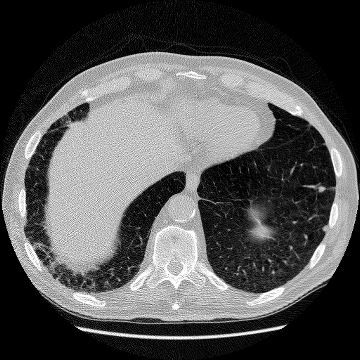nodule: (323, 226, 327, 230)
